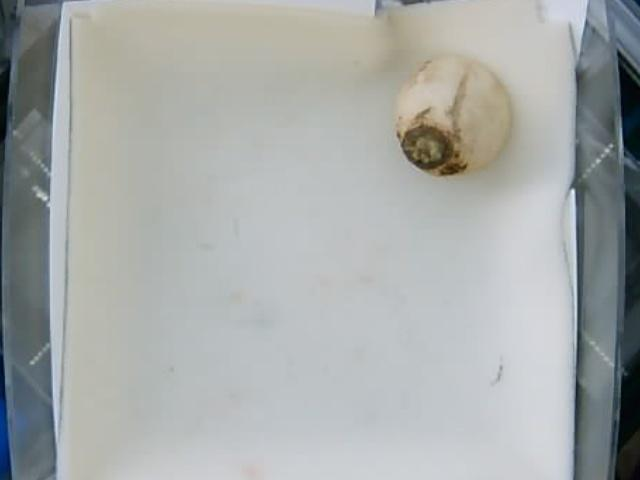Mooli: (395, 52, 514, 178)
